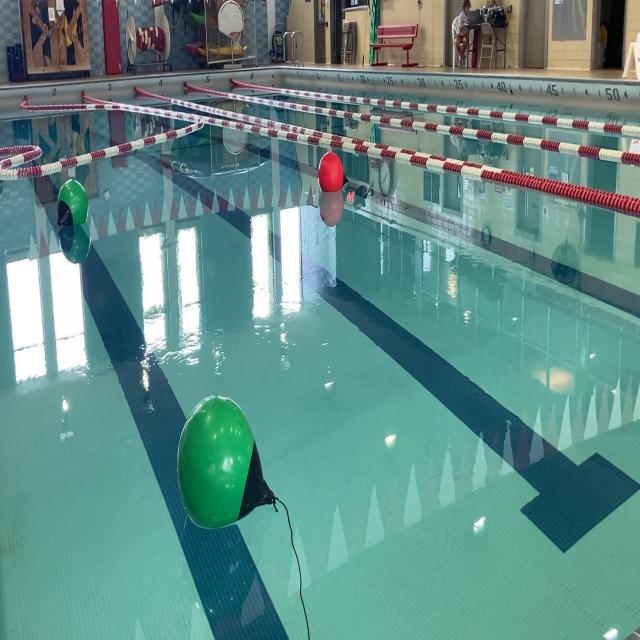buoy: (176, 393, 278, 532), (56, 176, 88, 232), (316, 150, 351, 195)
